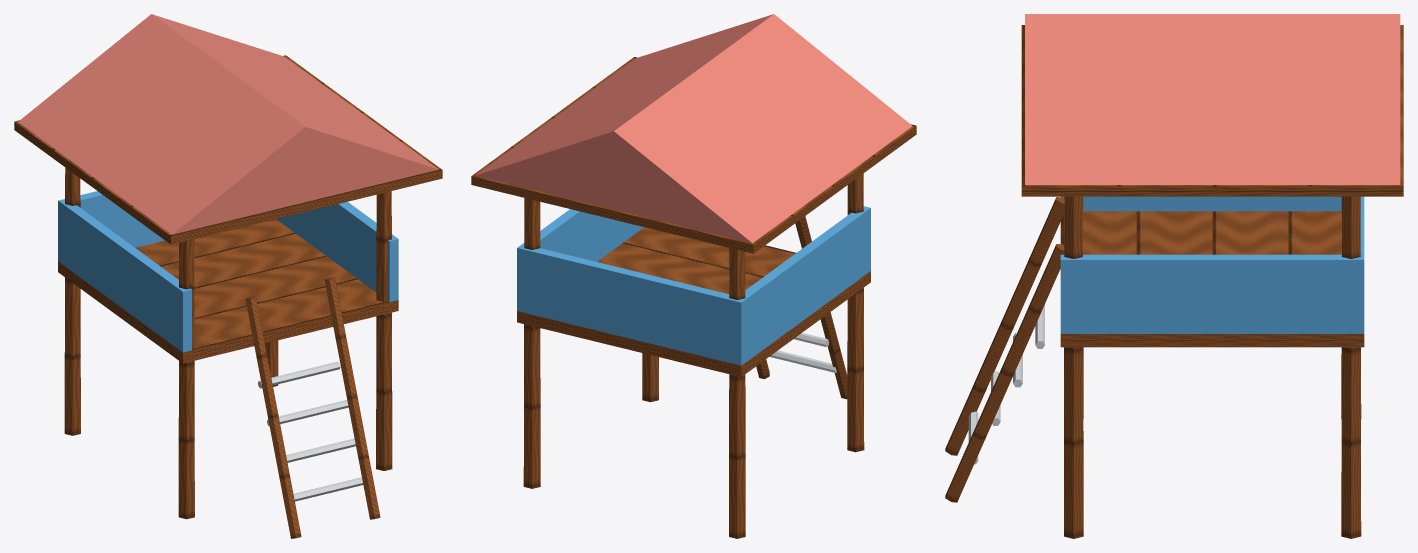
The model's file is 33661-Play-Tower-with-Roof-and-Ladder-City-Park-and-Playground.glb.
3 views of the same model, side by side, from view 1: azimuth 30°, elevation 25°; view 2: azimuth 150°, elevation 25°; view 3: azimuth 270°, elevation 25° (orthographic). The views are drawn at different scales.
Visible parts, largest first — view 1: play-tower-with-roof-poppy, play-tower-with-roof-timber, play-tower-with-roof-azure, play-tower-with-roof-steel; view 2: play-tower-with-roof-poppy, play-tower-with-roof-timber, play-tower-with-roof-azure, play-tower-with-roof-steel; view 3: play-tower-with-roof-poppy, play-tower-with-roof-timber, play-tower-with-roof-azure, play-tower-with-roof-steel.
Boxes of the visible parts, box(x1,y1,x2,y2) form: play-tower-with-roof-poppy: box(18, 14, 438, 234); play-tower-with-roof-timber: box(14, 55, 442, 538); play-tower-with-roof-azure: box(58, 191, 398, 352); play-tower-with-roof-steel: box(258, 361, 363, 501); play-tower-with-roof-poppy: box(475, 14, 912, 243); play-tower-with-roof-timber: box(471, 57, 916, 538); play-tower-with-roof-azure: box(517, 206, 870, 365); play-tower-with-roof-steel: box(769, 332, 836, 372); play-tower-with-roof-poppy: box(1025, 14, 1400, 184); play-tower-with-roof-timber: box(945, 25, 1403, 538); play-tower-with-roof-azure: box(1060, 196, 1364, 333); play-tower-with-roof-steel: box(968, 304, 1044, 464).
Bounding box in the file's own units: 2.34 × 3.13 × 2.81.
4 materials, 1 textured.
